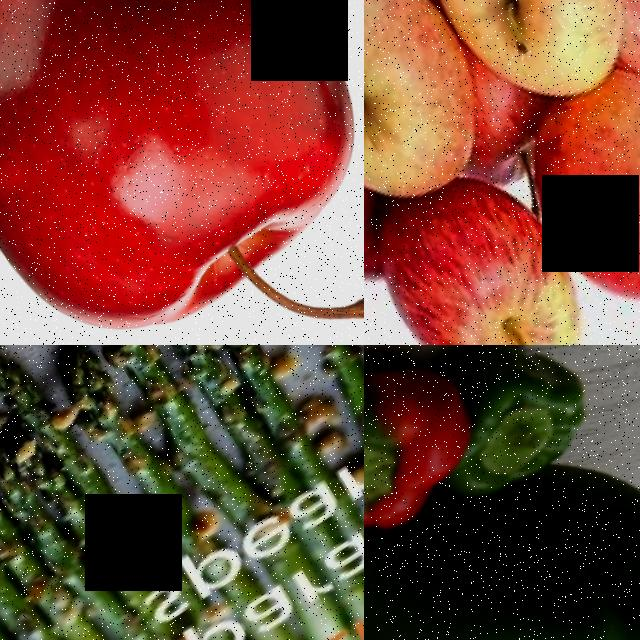apple: (0, 0, 364, 345), (364, 151, 619, 345), (498, 59, 640, 345), (364, 0, 517, 244), (390, 0, 640, 144), (439, 80, 574, 215), (364, 223, 401, 313)
bell pepper: (364, 425, 640, 640), (444, 345, 611, 504), (364, 369, 485, 582)
